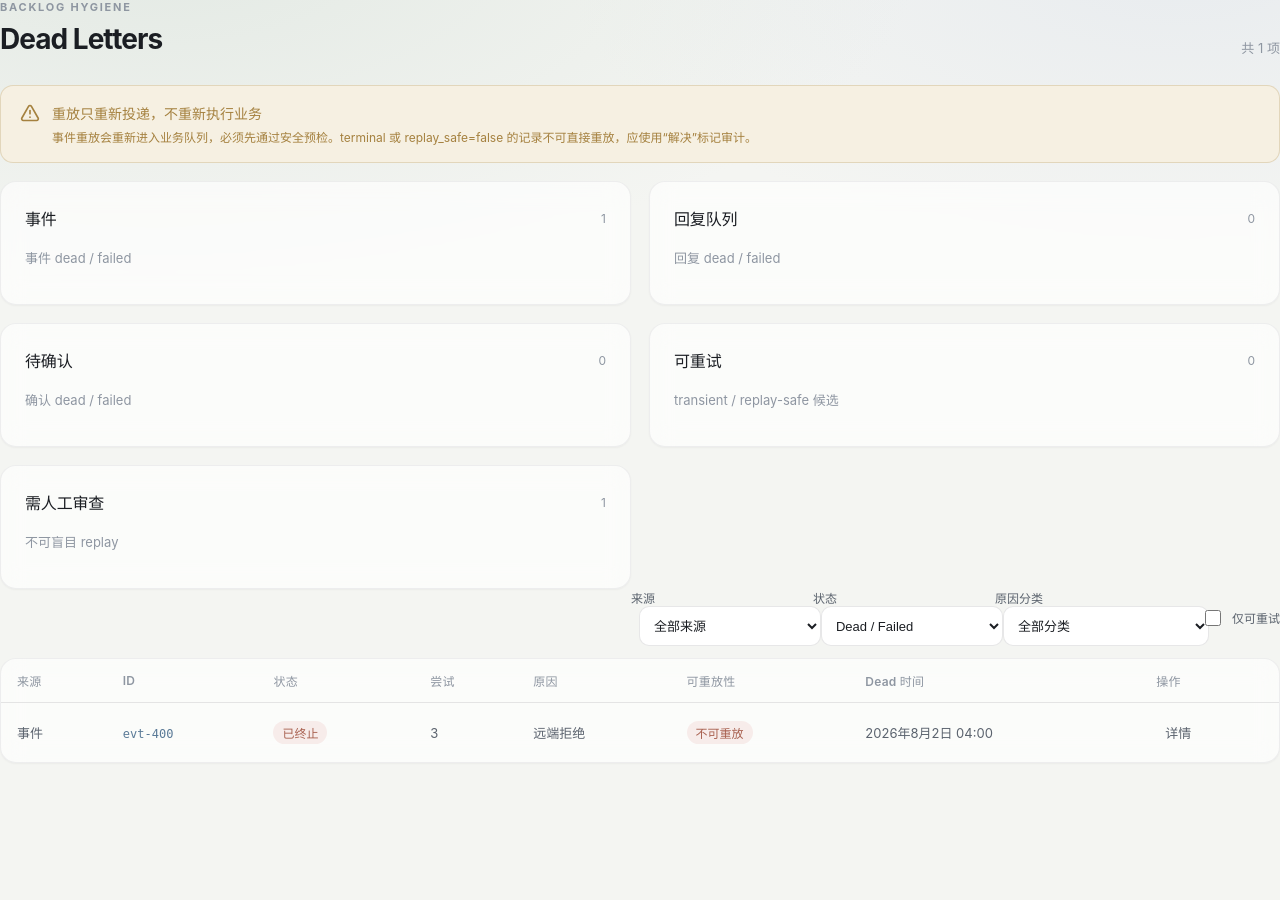
Scenario: DeadLettersPage › disables replay for terminal and unsafe rows and requires a reason
The image size is (1280, 900).
Click the button "详情".
click(1178, 732)  # box [1156,717,1200,748]
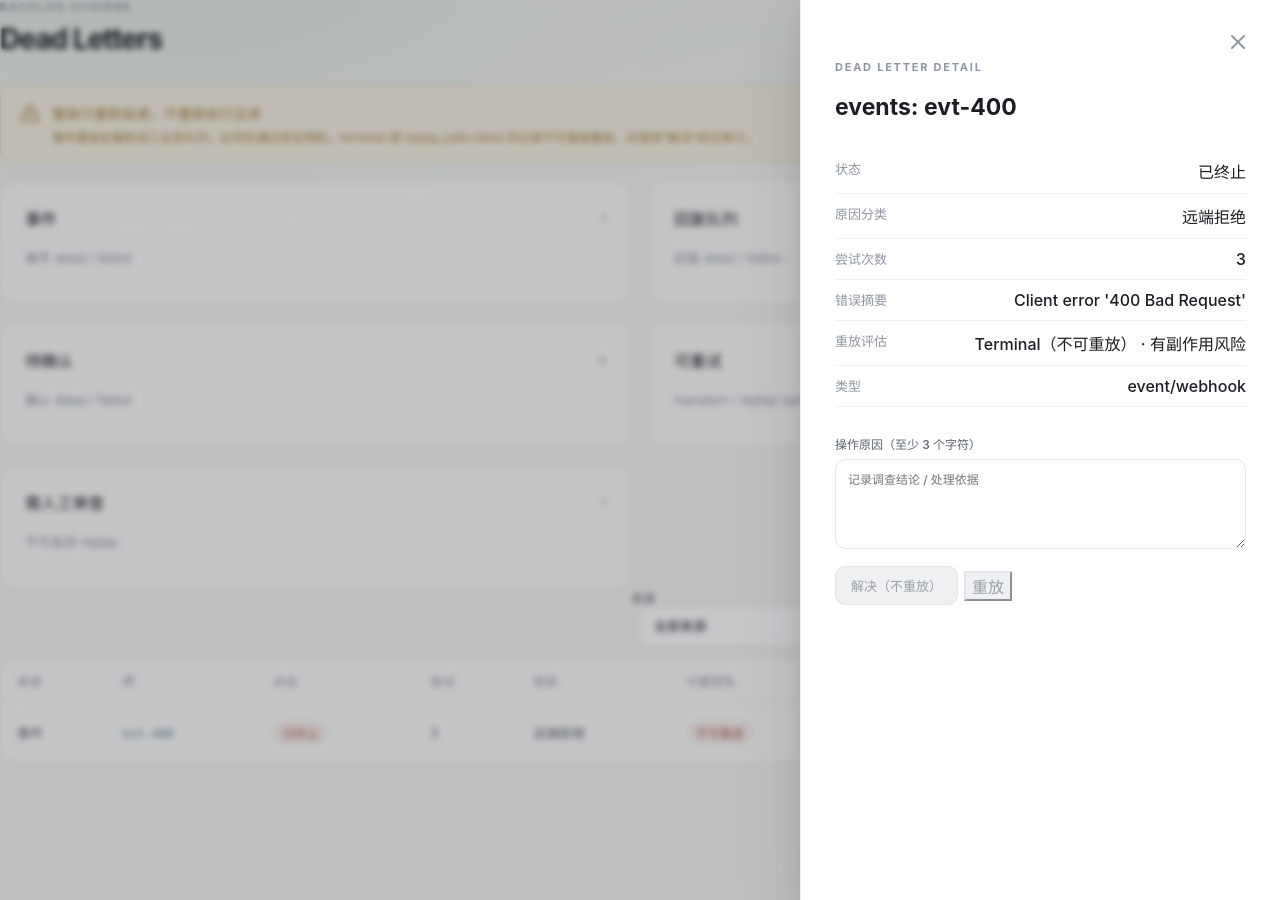
Expected: the button "重放" is disabled, [964,571,1012,601]
Expected: the button "解决（不重放）" is disabled, [835,566,958,605]
Type "investigated and closed" into the text box with placeholder "记录调查结论 / 处理依据".
click(1040, 504); type("investigated and closed")  # box [835,459,1246,549]
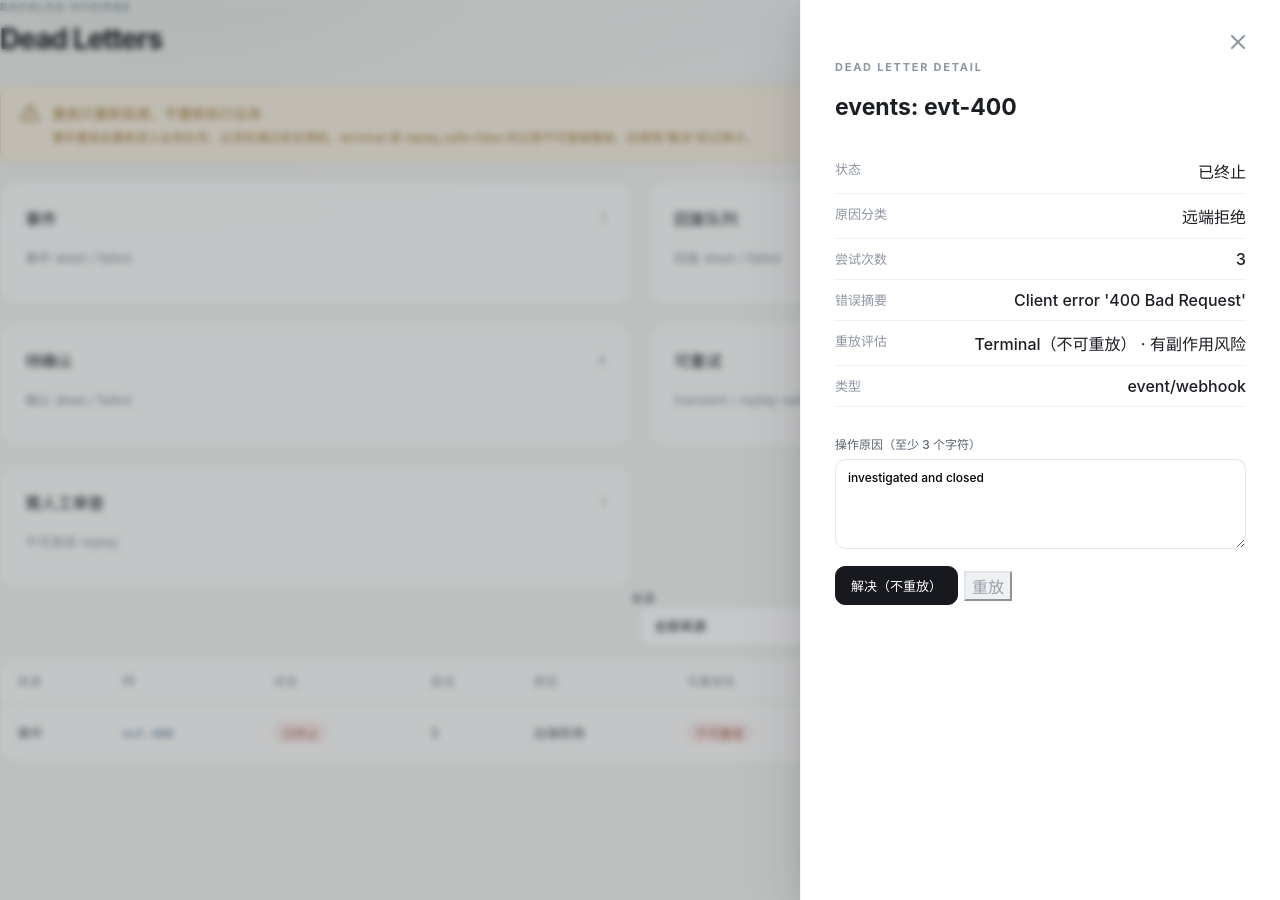
Expected: the button "重放" is disabled, [964,571,1012,601]
Expected: the button "解决（不重放）" is enabled, [835,566,958,605]
